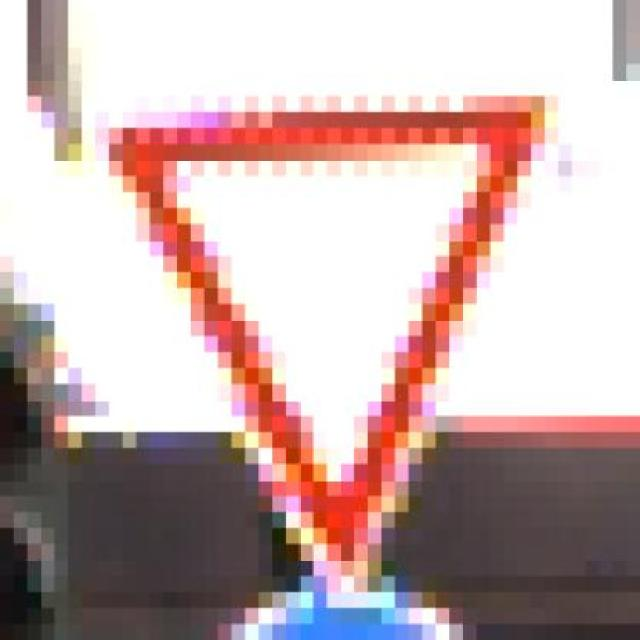Give Way: (82, 79, 572, 576)
